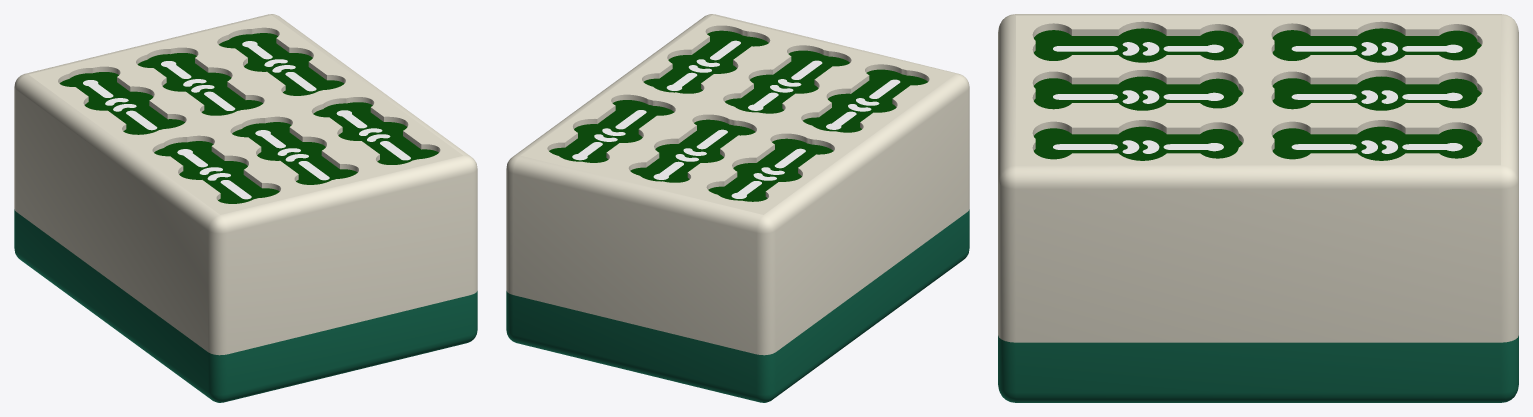
The model's file is Sou6.glb.
3 renders of one model, left to right at view 1: azimuth 30°, elevation 25°; view 2: azimuth 150°, elevation 25°; view 3: azimuth 270°, elevation 25°, orthographic. The views are drawn at different scales.
Visible parts, largest first — view 1: Sou6_body, Sou6_inset; view 2: Sou6_body, Sou6_inset; view 3: Sou6_body, Sou6_inset.
Boxes of the visible parts, x1,y1,x2,y2 form: Sou6_body: (14, 14, 477, 402); Sou6_inset: (59, 33, 438, 203); Sou6_body: (506, 14, 969, 402); Sou6_inset: (549, 30, 927, 201); Sou6_body: (998, 14, 1518, 402); Sou6_inset: (1033, 28, 1481, 160).
Bounding box in the file's own units: 0.024 × 0.016 × 0.032.
